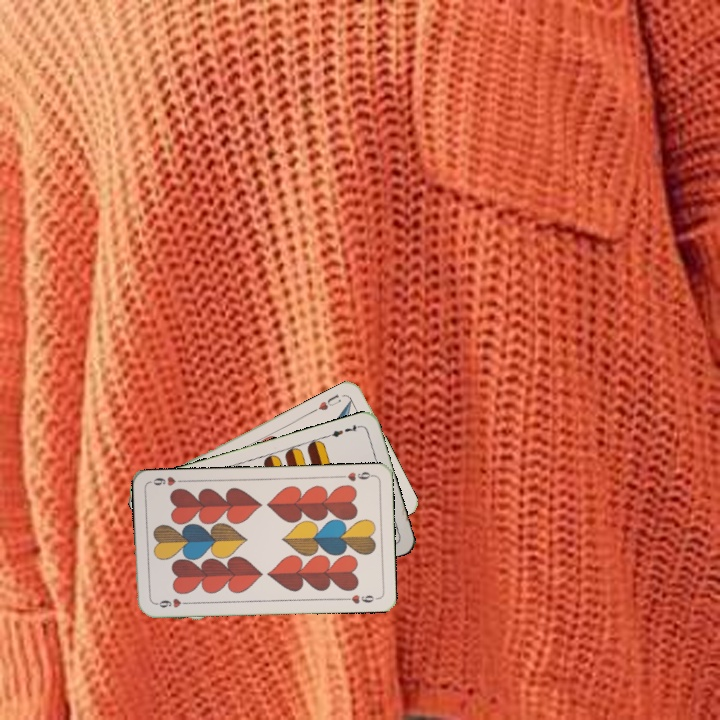E7: (324, 421, 364, 440)
H9: (336, 467, 376, 484), (151, 594, 191, 610)
HU: (309, 390, 344, 415)
